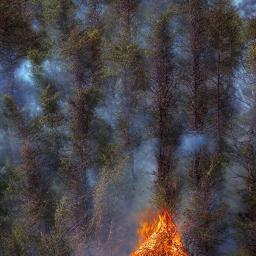Low smoke: (2, 52, 47, 117)
Medium fire: (126, 208, 193, 256)
